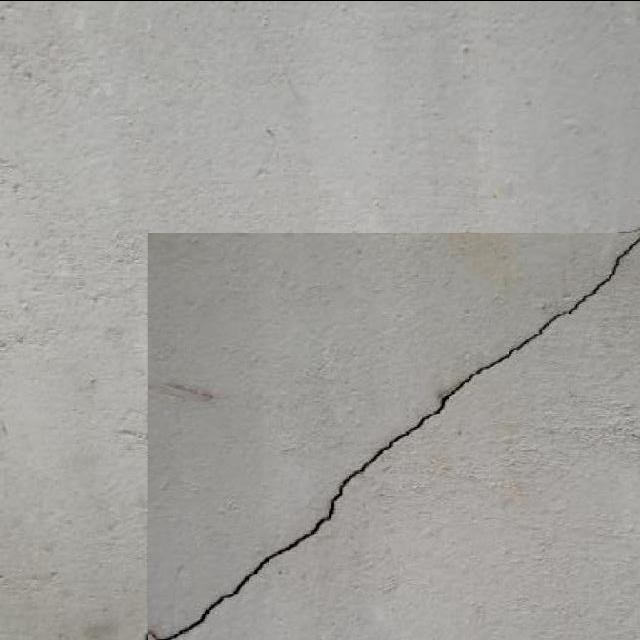crack: (146, 228, 639, 639), (392, 230, 633, 466), (152, 426, 414, 640), (143, 244, 272, 420), (511, 224, 639, 369), (152, 418, 275, 552), (143, 437, 213, 640), (3, 270, 115, 359), (75, 347, 149, 458), (471, 13, 507, 233), (146, 228, 637, 244), (242, 89, 314, 195), (274, 255, 385, 323), (113, 397, 218, 446), (297, 333, 376, 388), (129, 265, 151, 416), (148, 230, 373, 240), (104, 233, 147, 273), (153, 381, 225, 404), (2, 562, 61, 588), (457, 41, 480, 97), (280, 72, 308, 110), (107, 111, 139, 140), (72, 10, 88, 33), (561, 116, 582, 133), (458, 44, 471, 67), (622, 12, 639, 28), (257, 13, 273, 29), (253, 164, 269, 179), (88, 292, 102, 305), (10, 181, 23, 195), (539, 300, 554, 312), (370, 198, 382, 211), (265, 126, 276, 139), (561, 294, 575, 304), (13, 333, 24, 344), (462, 352, 472, 364), (22, 70, 33, 80), (20, 301, 29, 311), (524, 98, 533, 108), (0, 339, 8, 350)
dampens: (427, 352, 517, 424), (326, 446, 395, 515), (586, 225, 640, 307), (147, 590, 236, 639), (321, 471, 360, 522), (189, 584, 245, 618), (513, 320, 557, 350), (434, 379, 465, 413), (1, 326, 33, 357), (428, 390, 453, 421), (321, 493, 341, 529), (0, 419, 9, 437), (0, 572, 11, 582)
dampness: (0, 237, 148, 640), (451, 231, 521, 289), (617, 223, 640, 236)
